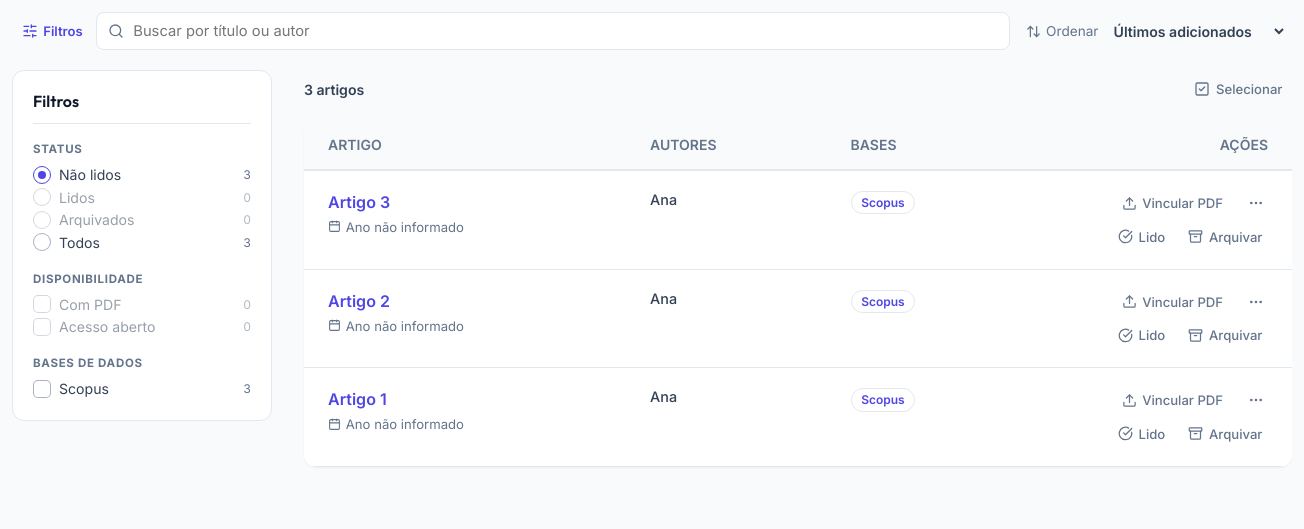
Test: ProjectArticlesTab multi-select › keeps the batch actions disabled until something is selected
Click the button "Selecionar": click(1238, 89) [1185,73,1292,105]
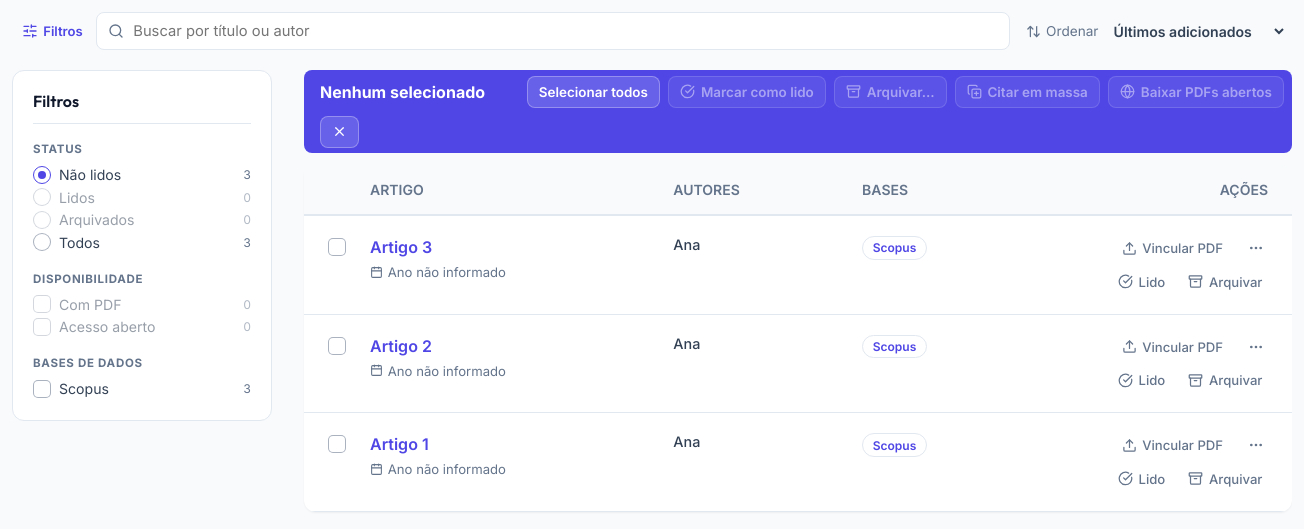
Expected: the text "Nenhum selecionado" is shown, [320,82,485,102]
Expected: the button "Marcar como lido" is disabled, [668,76,826,108]
Click the checkbox named "Selecionar \"Artigo 2\"": click(337, 346) [328,337,346,355]
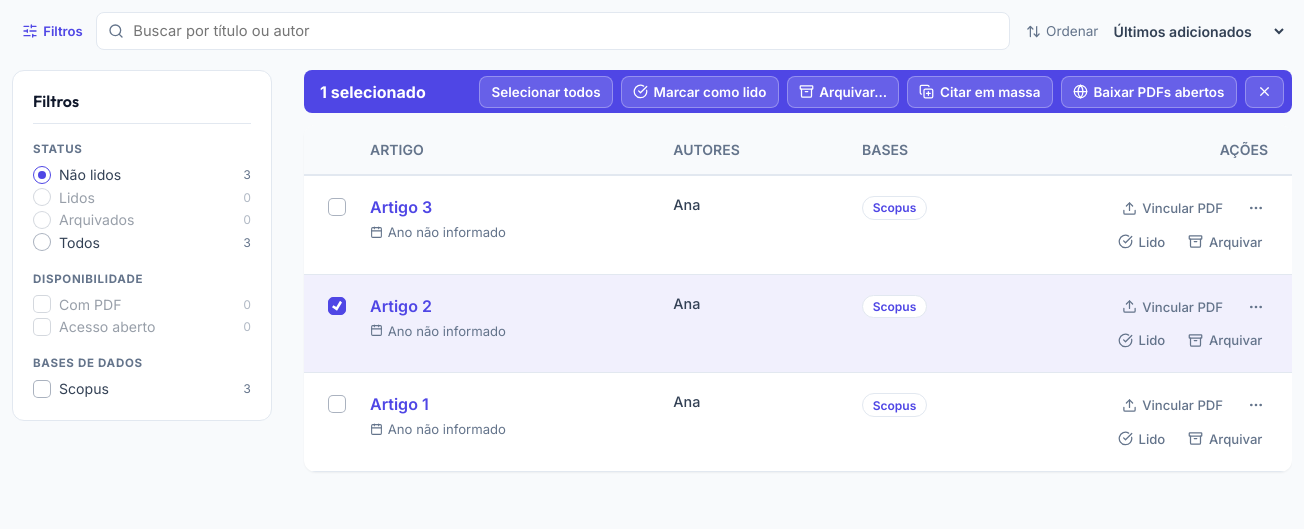
Expected: the text "1 selecionado" is shown, [320,82,426,102]
Expected: the button "Marcar como lido" is enabled, [621,76,779,108]
